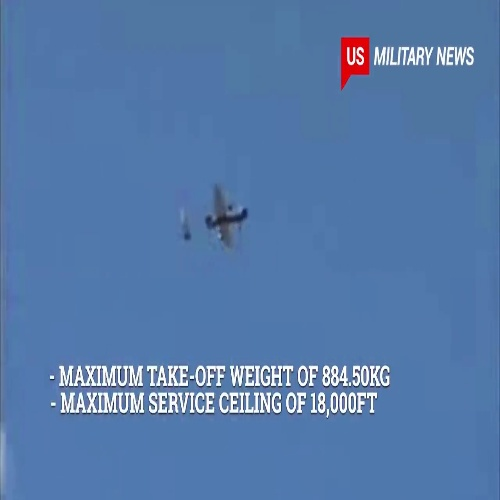uav302: (176, 182, 250, 253)
